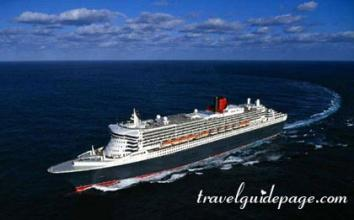youlun: (45, 86, 287, 194)
